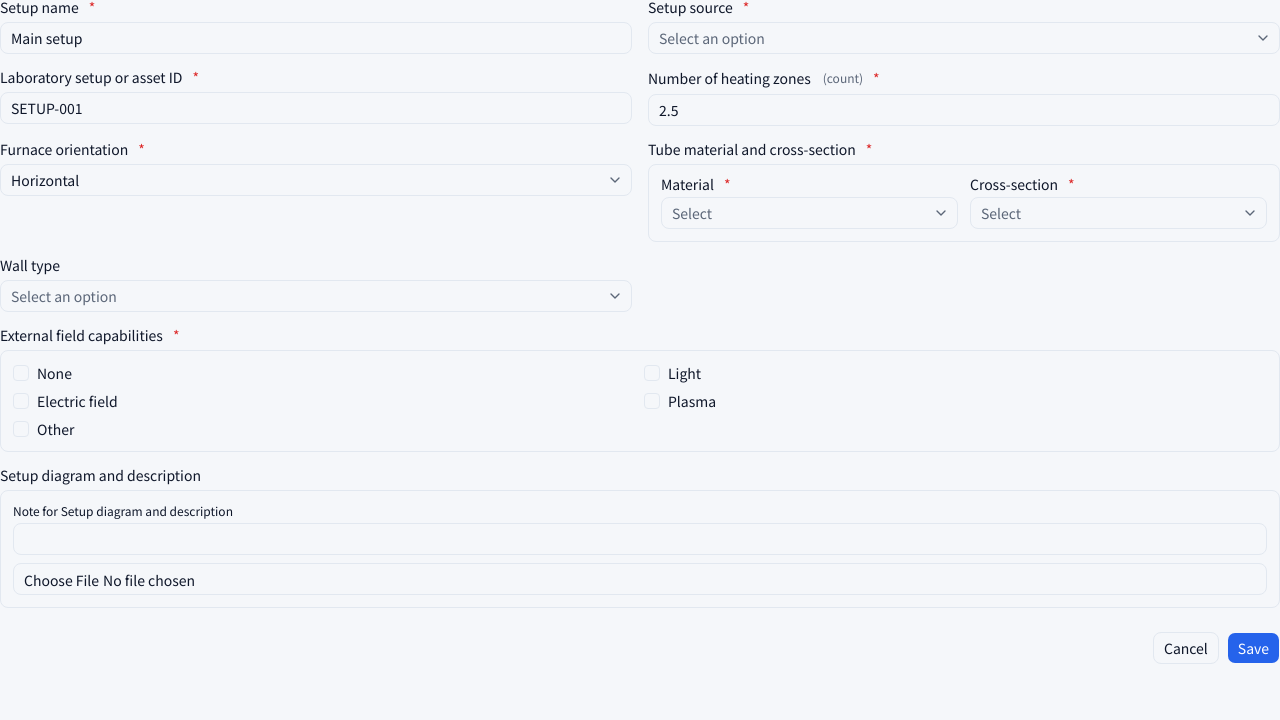
Test: EntityForm — generated numeric validation › uses generated constraints and blocks an invalid setup value
The image size is (1280, 720).
Click the button "Save": (1253, 648) [1227,632,1279,664]
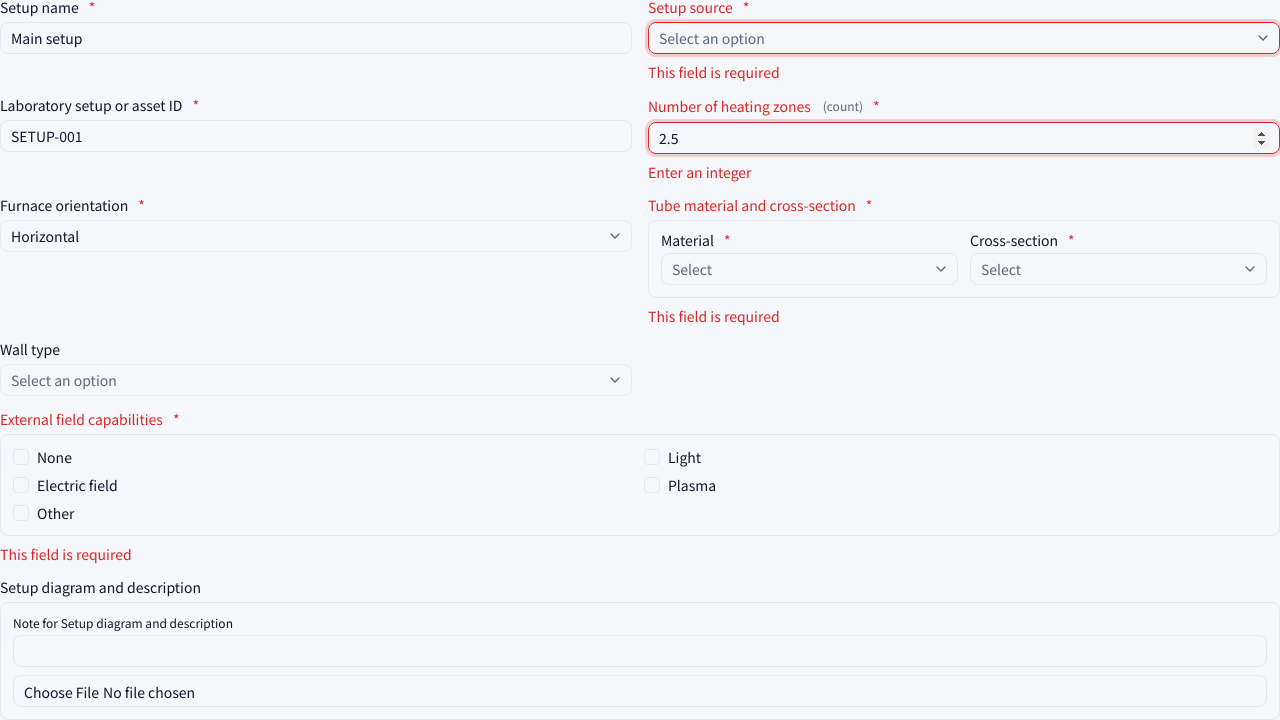
Expected: the text "Enter an integer" is shown, [648,162,752,182]
